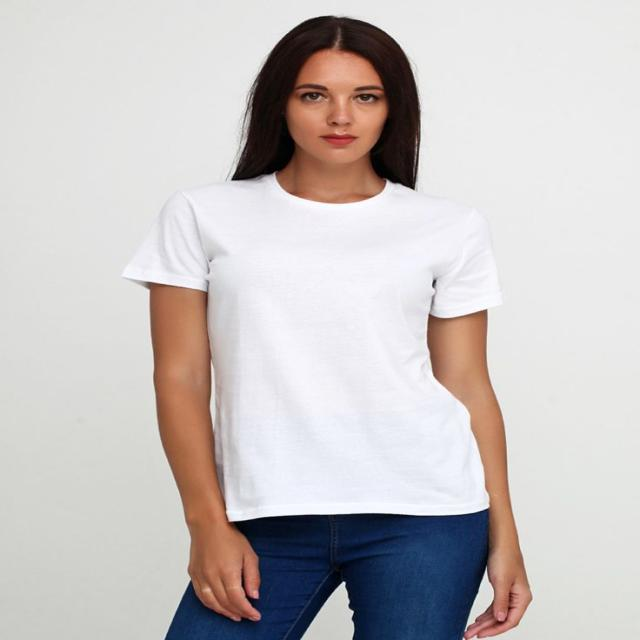Upper-Body: (123, 173, 499, 520)
